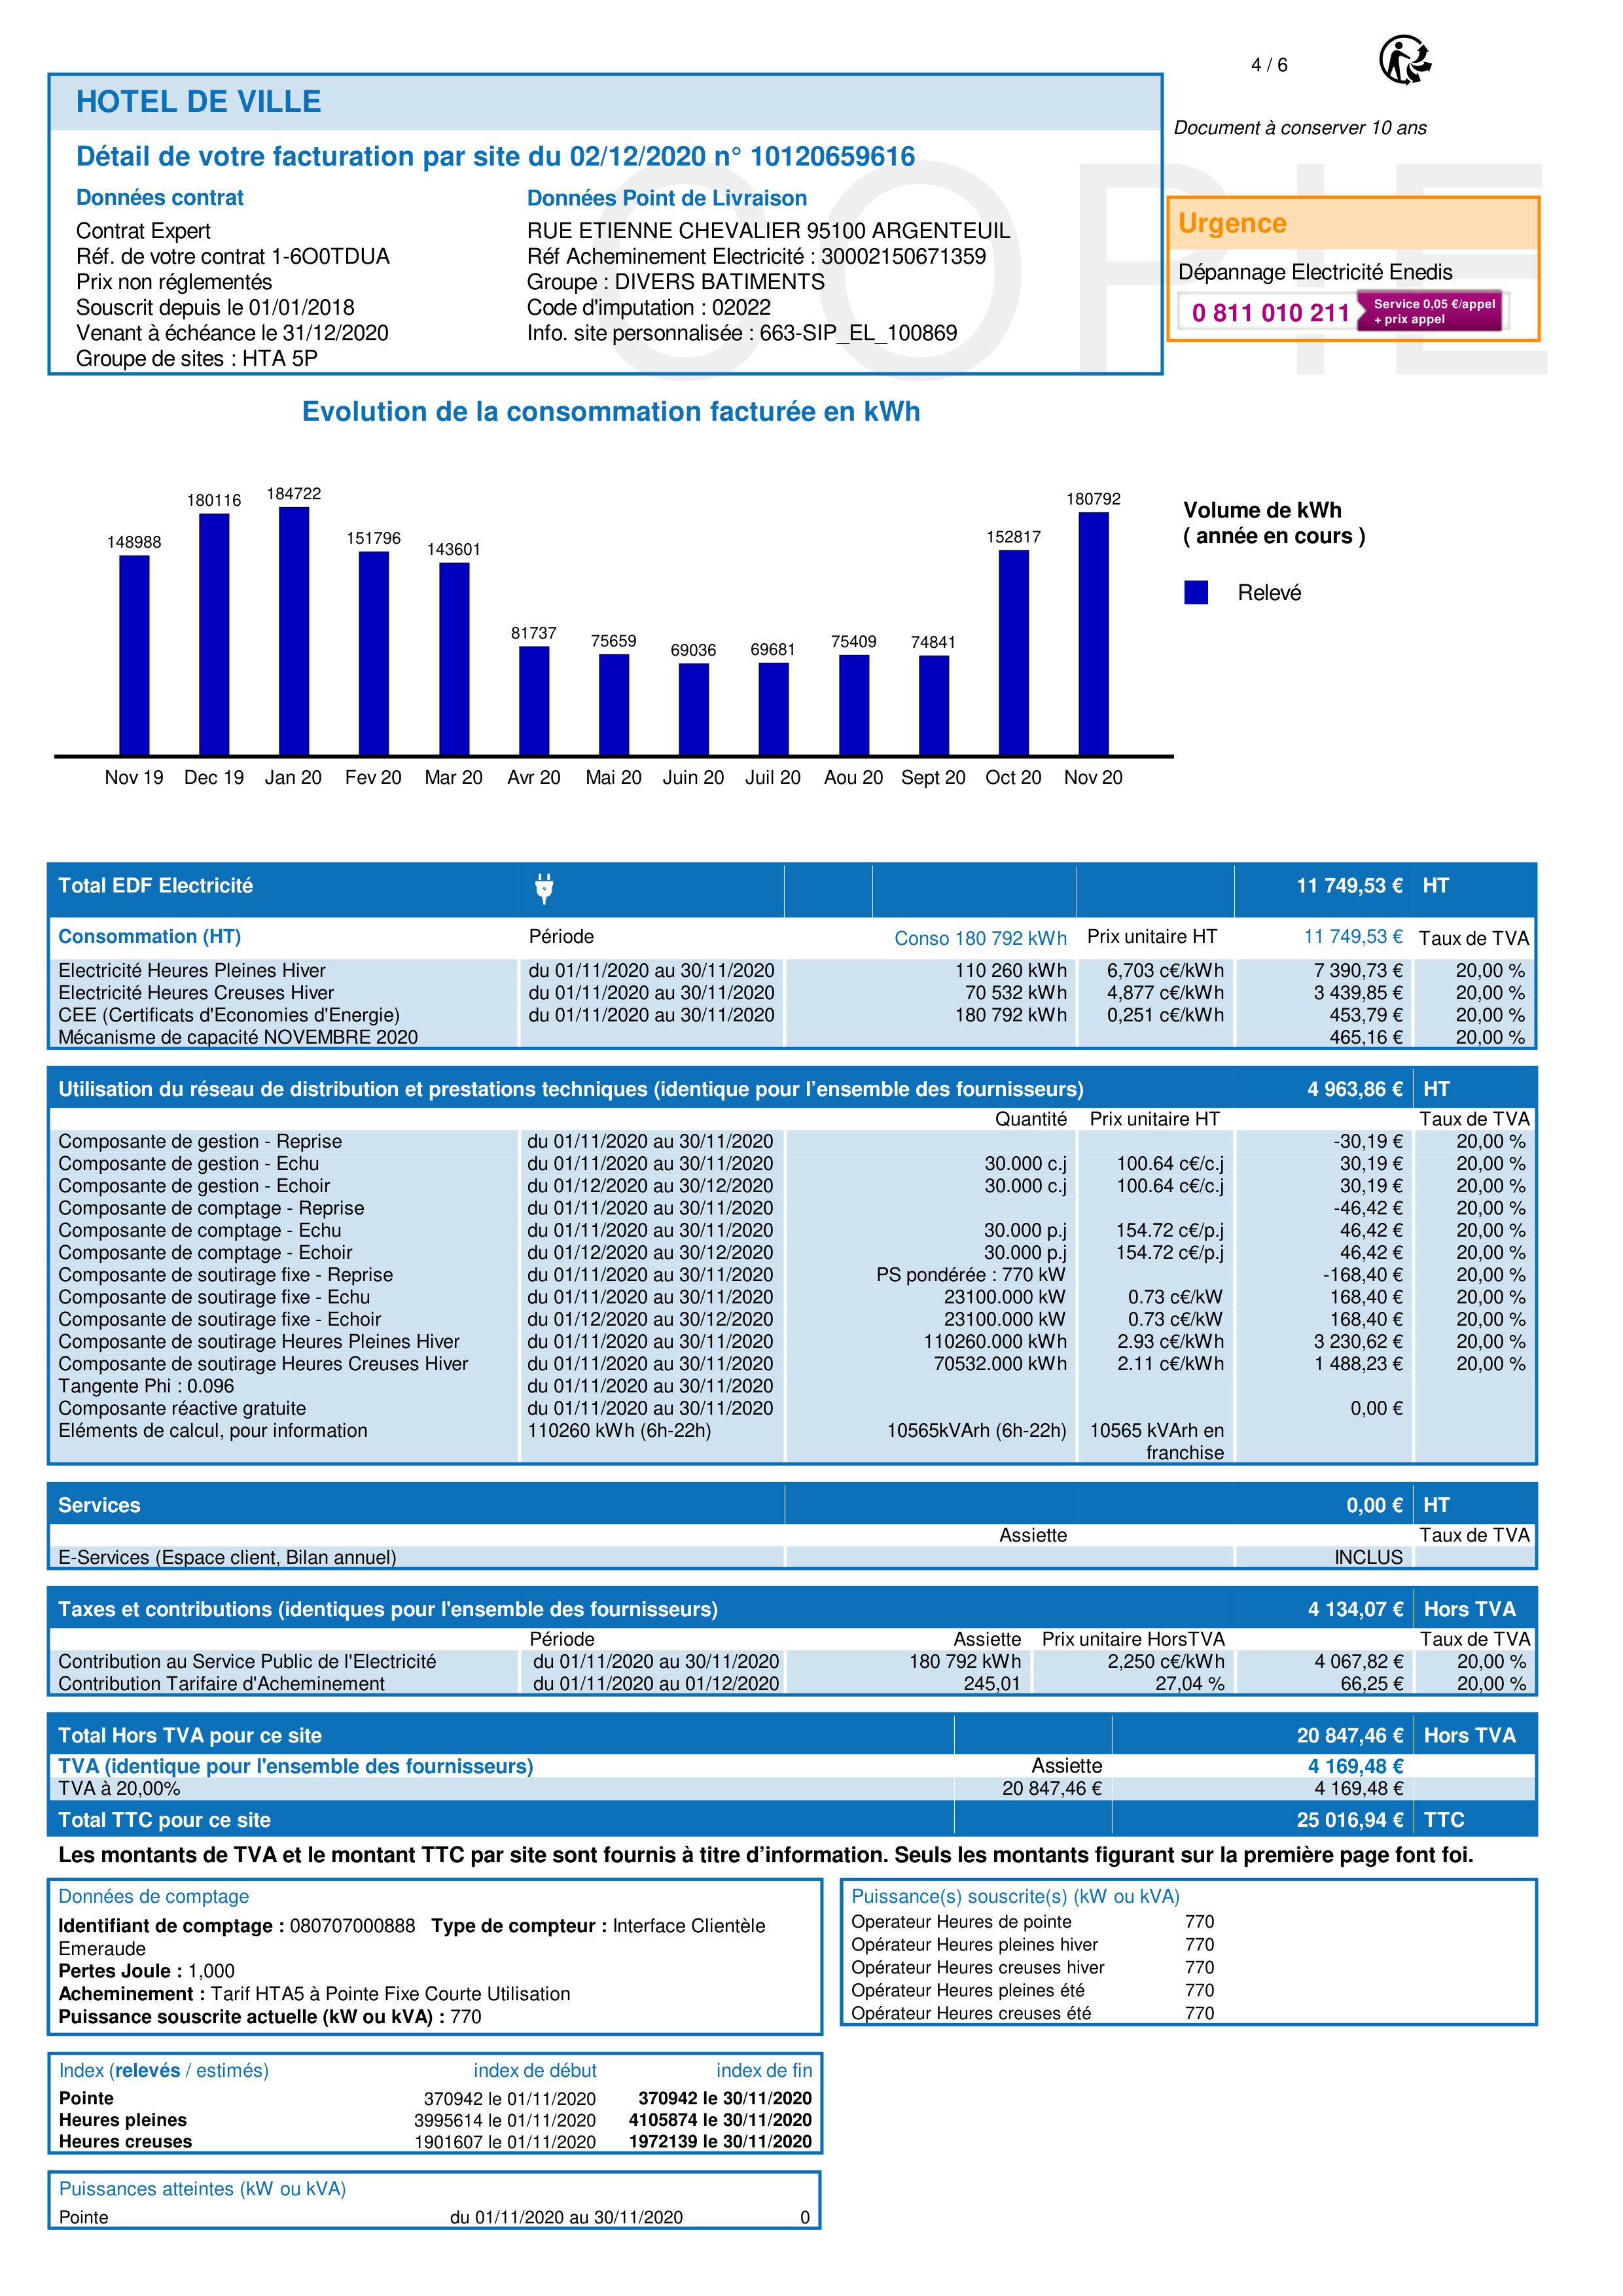area: (47, 2053, 824, 2156)
type_indicator: (48, 2053, 279, 2087)
